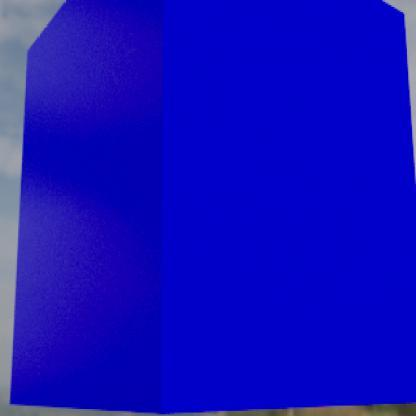cube: (9, 0, 415, 415)
